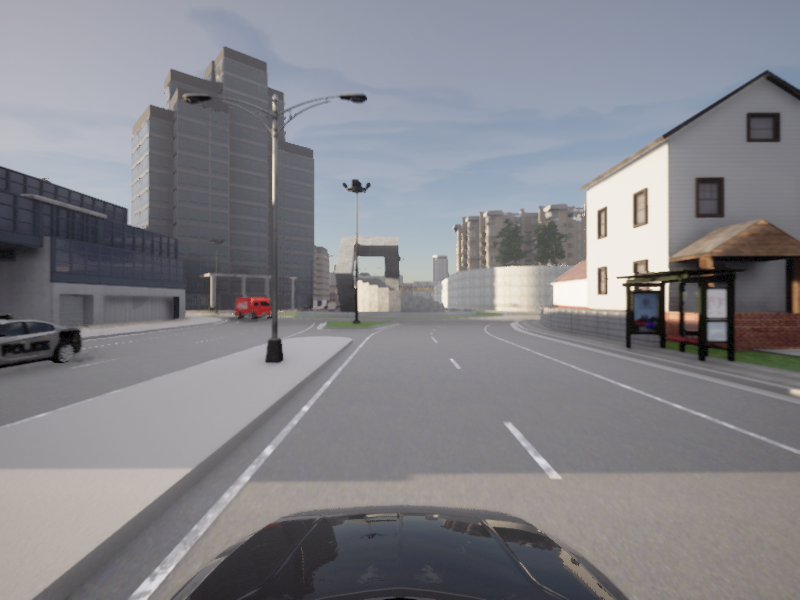vehicle: (0, 311, 92, 395), (232, 296, 278, 320)
